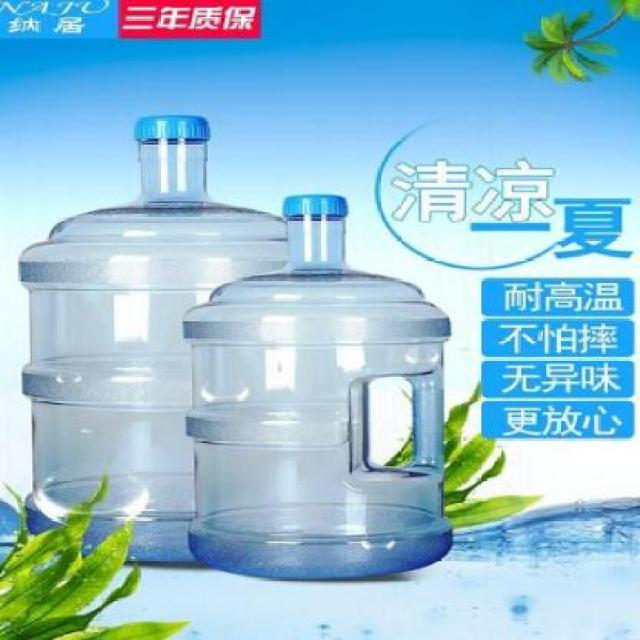coolerbottle: (180, 186, 460, 589)
